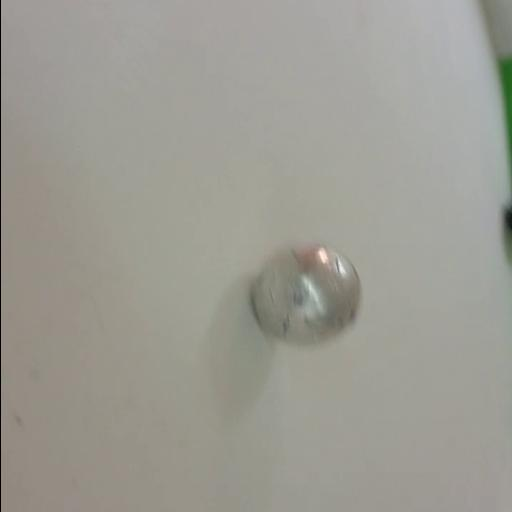alive: (250, 240, 362, 350)
